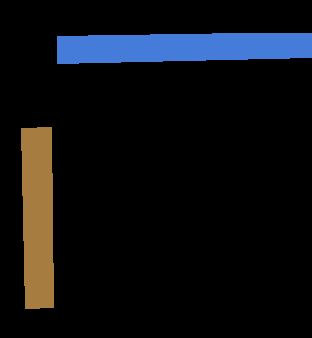parkingspot: (57, 33, 312, 63), (21, 127, 53, 308)
